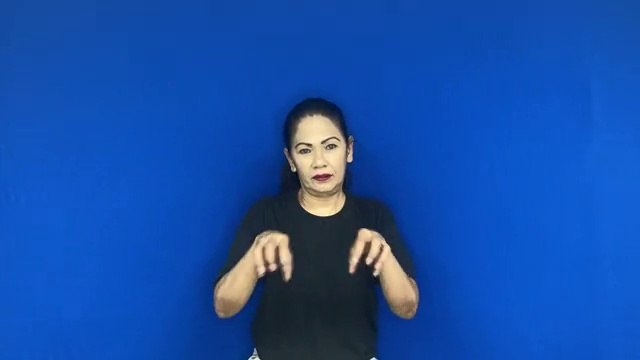egg: (243, 221, 394, 285)
